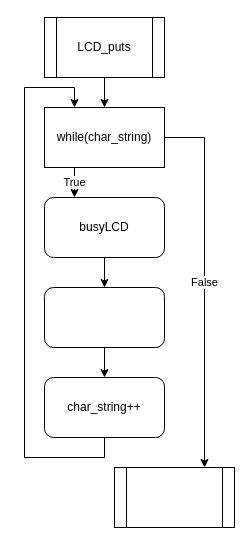
Image size: 252x545. Some labels were removed from this diagram. The shapes that lost their labels are listed below. From the top down, each one's centre as x and y in pixels, then its label:
At point (104, 317): "LCD_putc(char)".
At point (174, 497): "Exit".
